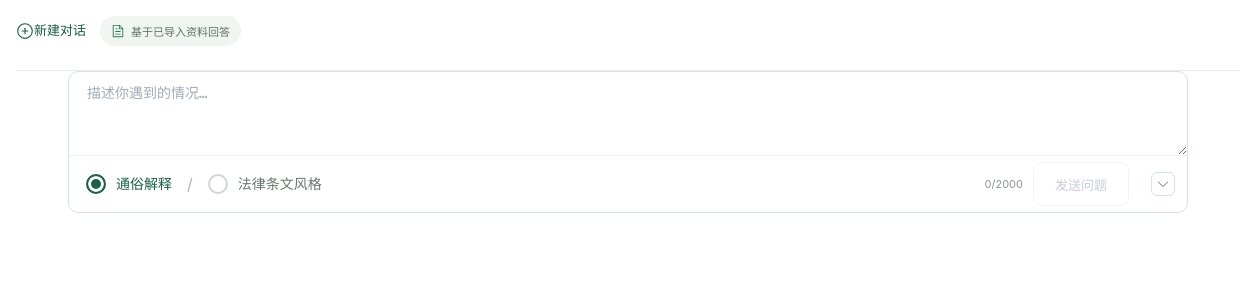
Scenario: ChatView › shows an SSE error without assigning a completed message id
The image size is (1257, 283).
Step 1. Type "公司欠薪怎么办？" into the text box with placeholder "描述你遇到的情况…" → (628,114), box [69, 72, 1187, 155]
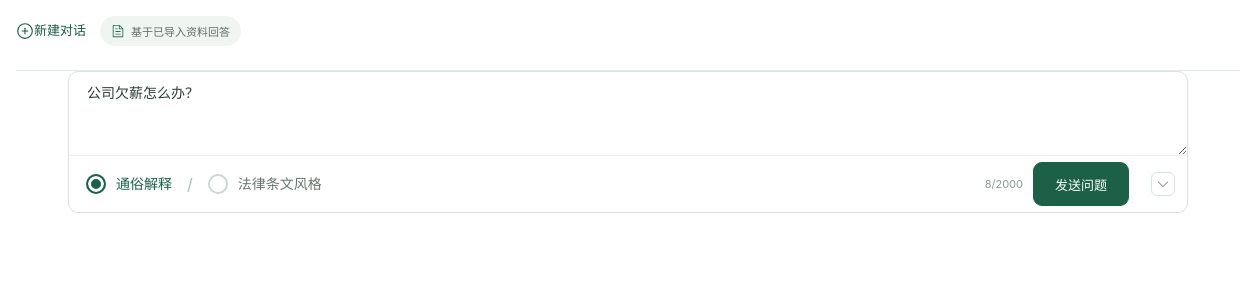
Step 2. Submit the form, box [68, 71, 1188, 213]
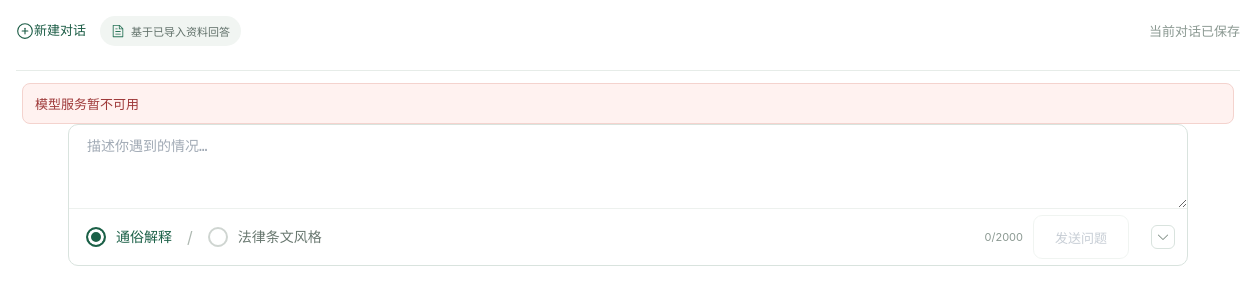
Now the message "模型服务暂不可用" is shown, box [22, 83, 1234, 124]
